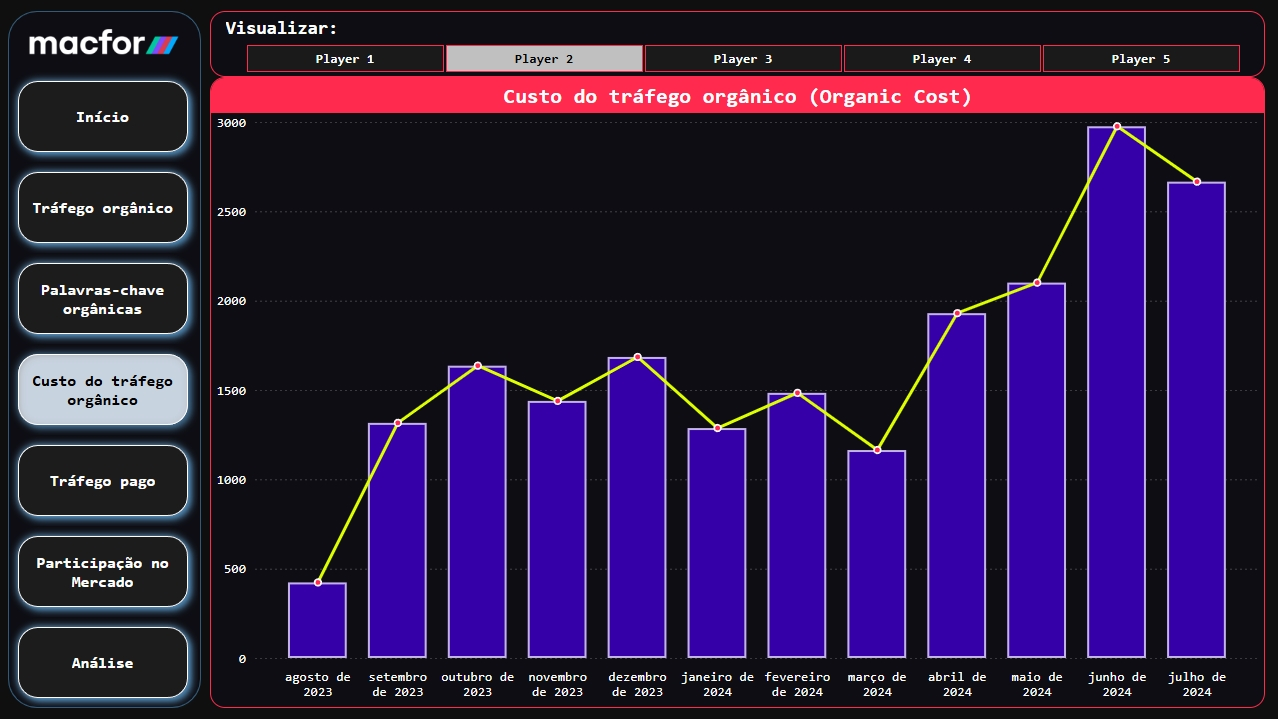

Layout of this report page (visuals, bound fields, positions):
{"tool":"powerbi","page":{"name":"Custo do tráfego orgânico","canvas":[1280,720],"ordinal":3},"visuals":[{"type":"lineClusteredColumnComboChart","title":"Custo do tráfego orgânico (Organic Cost)","fields":{"Category":["Organic cost (Organic cost).Data"],"Series":["Organic cost (Organic cost).Player"],"Y":["Sum(Organic cost (Organic cost).Valor)"],"Y2":["Sum(Organic cost (Organic cost).Valor)"]},"box":[211,77,1055,631],"z":0},{"type":"slicer","title":"Visualizar:","fields":{"Values":["Organic cost (Organic cost).Player"]},"box":[211,11,1055,66],"z":1000},{"type":"shape","box":[9,11,193,697],"z":2000},{"type":"pageNavigator","box":[9,71,190,637],"z":3000},{"type":"image","box":[12,19,187,53],"z":4000}]}

Visuals, with their boxes on the page's 1280x720 design canvas (x1, y1, x2, y2). These are canvas units, not pixel positions in the 1278x719 screenshot, which may show the page scaled, cropped or inside an application window:
"Custo do tráfego orgânico (Organic Cost)" lineClusteredColumnComboChart: (left=211, top=77, right=1266, bottom=708)
"Visualizar:" slicer: (left=211, top=11, right=1266, bottom=77)
shape: (left=9, top=11, right=202, bottom=708)
pageNavigator: (left=9, top=71, right=199, bottom=708)
image: (left=12, top=19, right=199, bottom=72)
